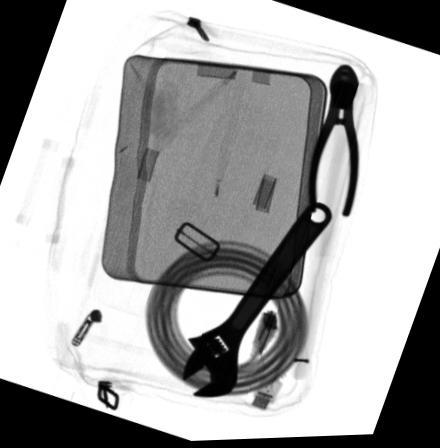Pliers: (306, 64, 360, 217)
Wrench: (180, 202, 334, 399)
